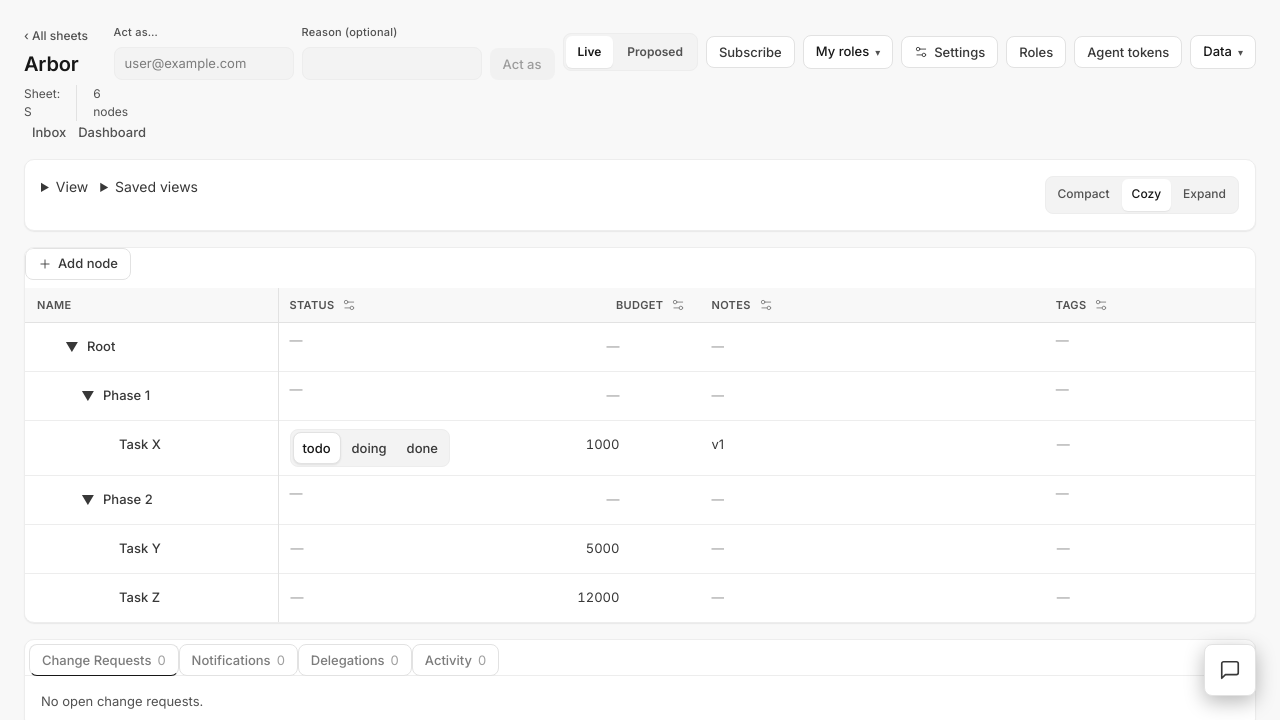
Test: Admin modal — tab strip › loads users when the modal opens and renders them on the Users tab, self-guarded
Check: the table with test id "tree-table" is shown, box [25, 288, 1255, 622]
Step 1. Click the button with test id "roles-admin-button" → (1036, 52), box [1006, 36, 1066, 68]
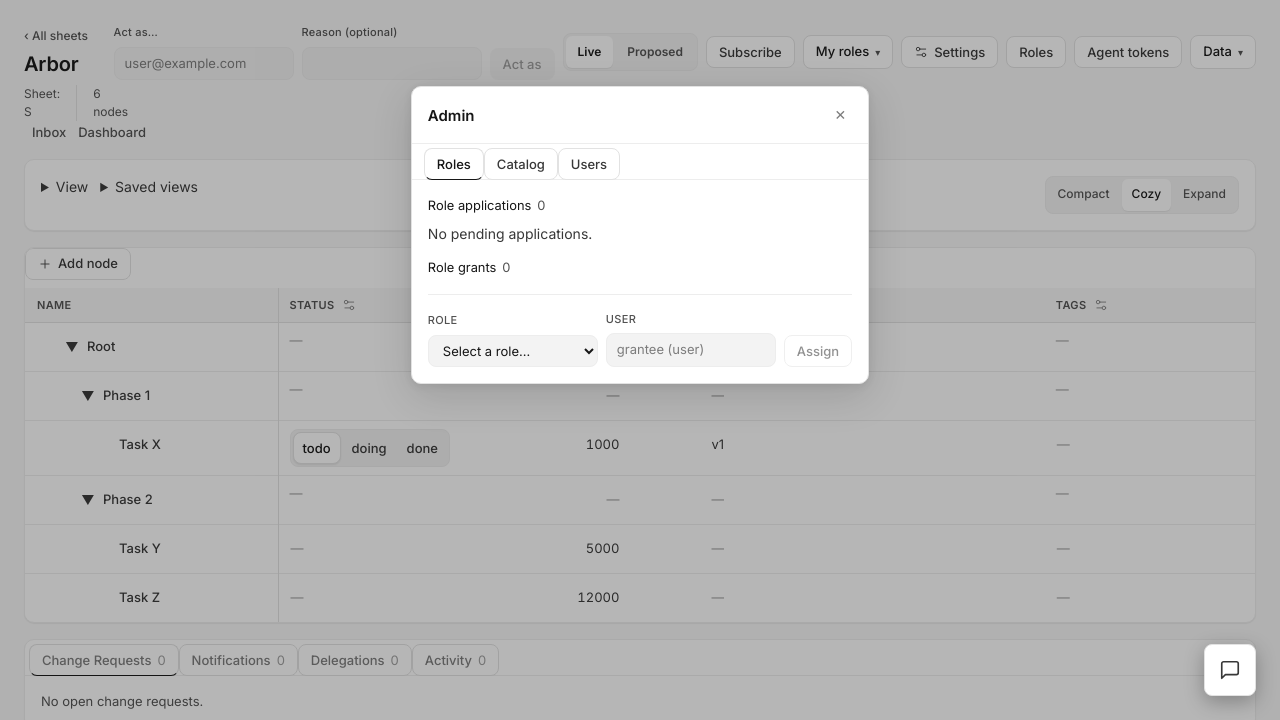
Step 2. Click the tab with test id "admin-tab-users" → (589, 164), box [558, 148, 620, 180]
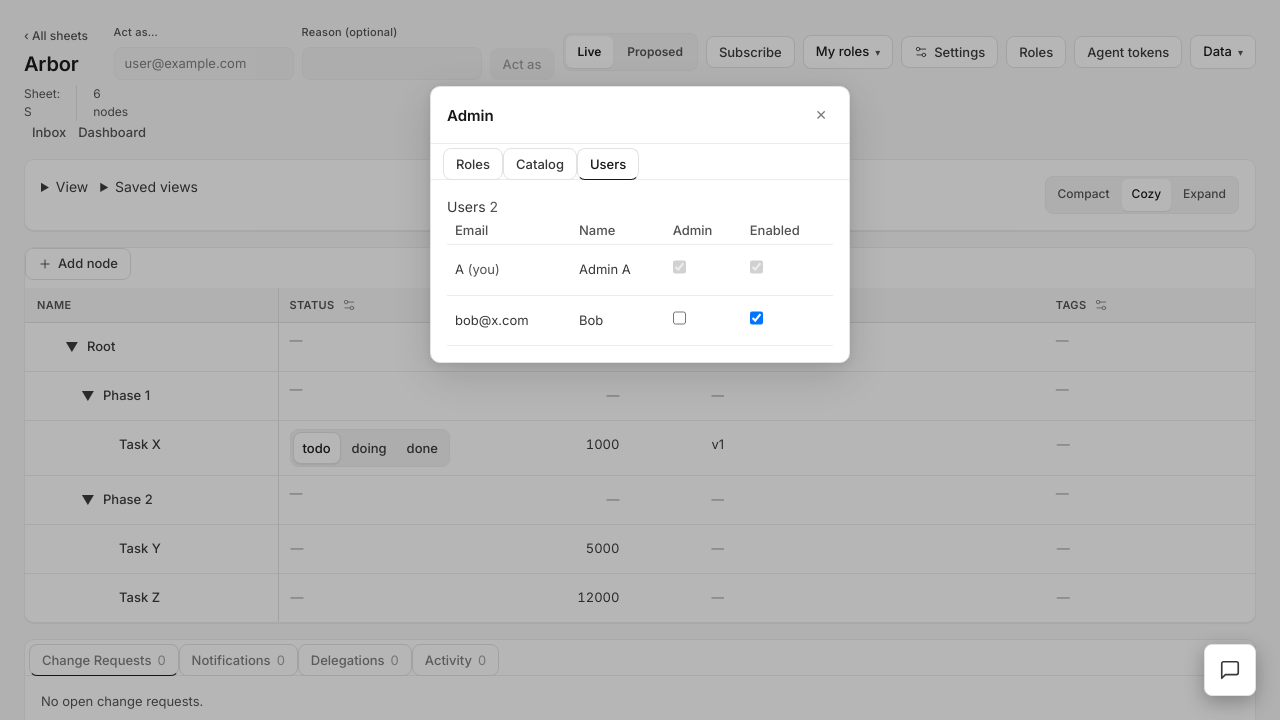
Check: the row with test id "admin-users-row-bob@x.com" is shown, box [447, 296, 833, 346]
Check: the checkbox with test id "admin-users-admin-A" is disabled, box [673, 252, 686, 284]
Check: the checkbox with test id "admin-users-admin-bob@x.com" is enabled, box [673, 302, 686, 334]
